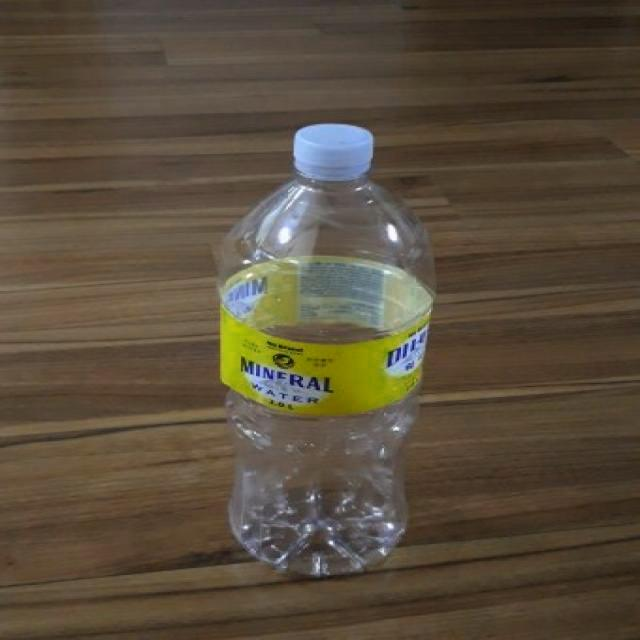bottle: (220, 123, 437, 577)
